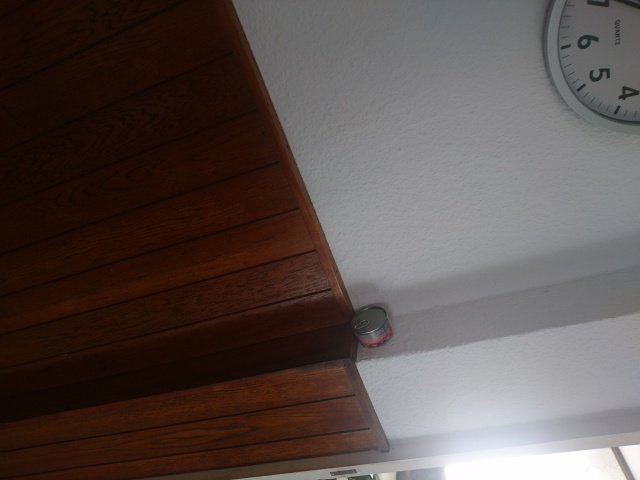Giana Tuna Salad Mexico 185g: (347, 302, 394, 349)
